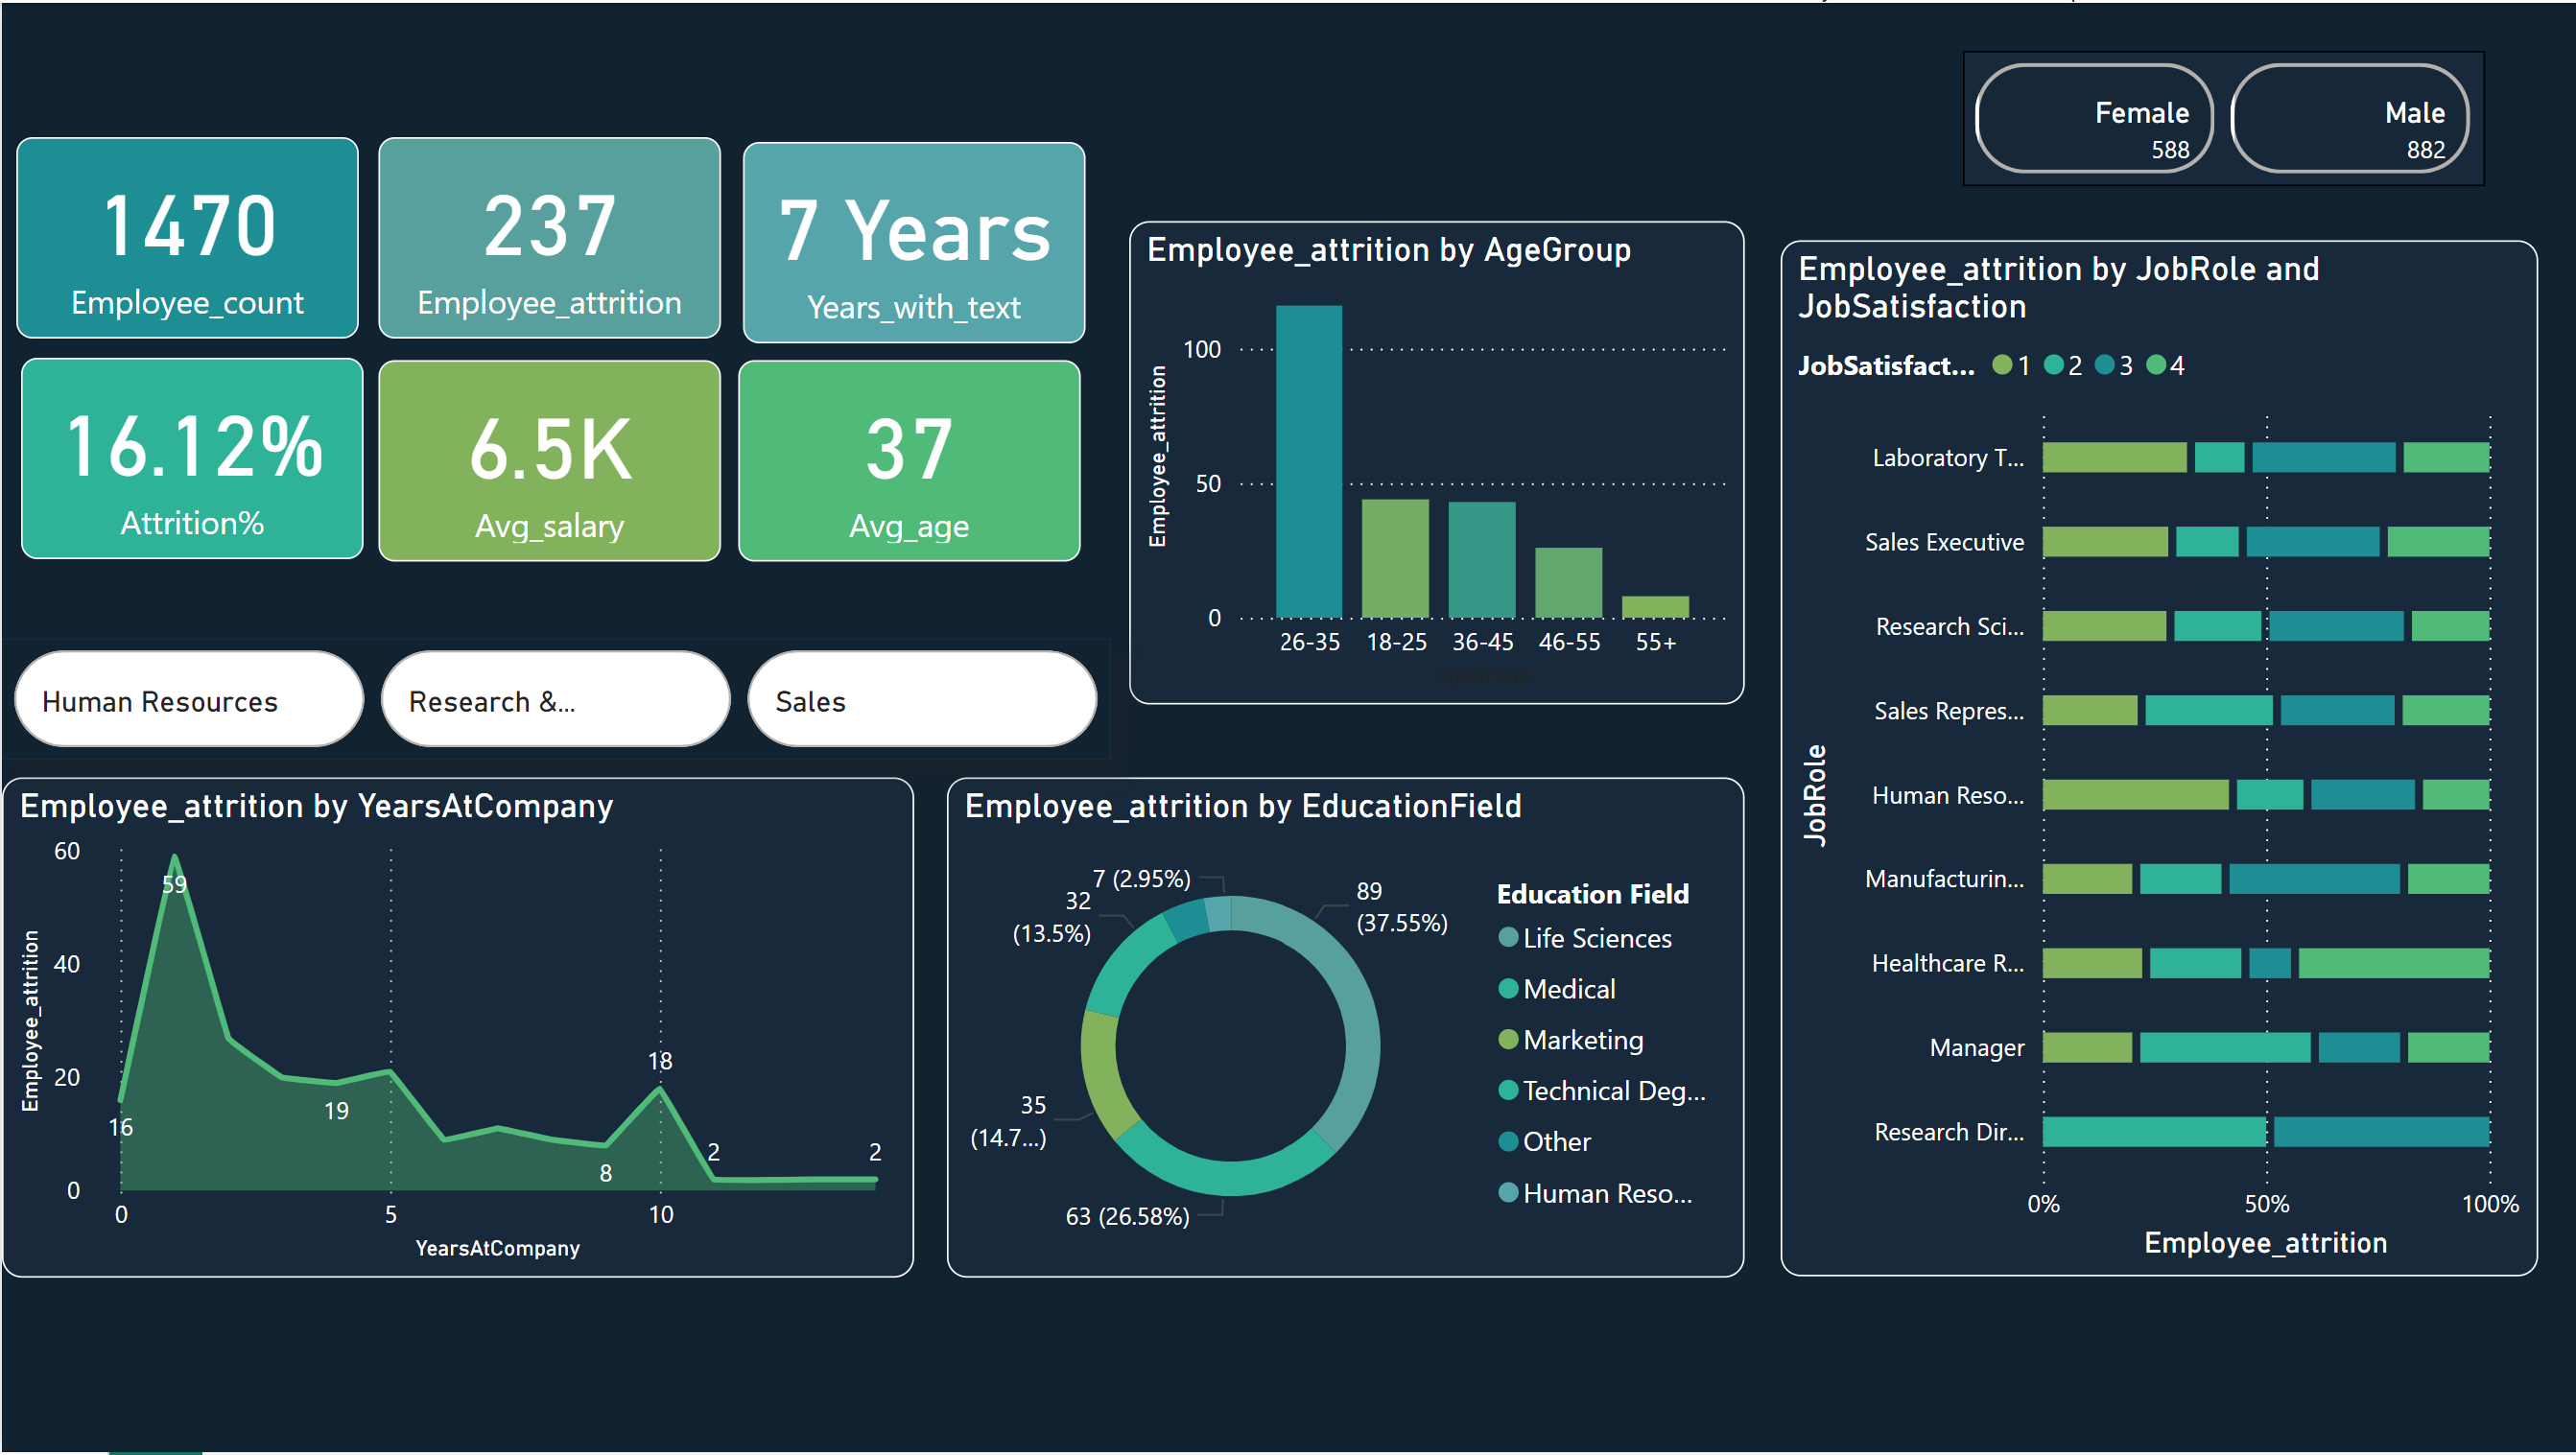

What the dashboard file says about the page in this screenshot:
{"tool":"powerbi","page":{"name":"Page 1","canvas":[1280,720],"ordinal":0},"visuals":[{"type":"card","fields":{"Values":["HR_Analytics.Employee_attrition"]},"box":[186.6,67.2,170.2,100.2],"z":0},{"type":"card","fields":{"Values":["HR_Analytics.Employee_count"]},"box":[6.9,67.2,170.2,100.2],"z":1000},{"type":"card","fields":{"Values":["HR_Analytics.Years_with_text"]},"box":[367.8,68.6,170.2,100.2],"z":2000},{"type":"card","fields":{"Values":["HR_Analytics.Attrition%"]},"box":[9.6,175.6,170.2,100.2],"z":3000},{"type":"card","fields":{"Values":["HR_Analytics.Avg_salary"]},"box":[186.6,177,170.2,100.2],"z":4000},{"type":"card","fields":{"Values":["HR_Analytics.Avg_age"]},"box":[365,177,170.2,100.2],"z":5000},{"type":"areaChart","fields":{"Y":["HR_Analytics.Employee_attrition"],"Category":["HR_Analytics.YearsAtCompany"]},"box":[0,384.2,452.8,248.4],"z":6000},{"type":"donutChart","fields":{"Y":["HR_Analytics.Employee_attrition"],"Category":["HR_Analytics.EducationField"]},"box":[469.3,384.2,396.6,248.4],"z":7000},{"type":"clusteredColumnChart","fields":{"Category":["HR_Analytics.AgeGroup"],"Y":["HR_Analytics.Employee_attrition"]},"box":[559.9,108.4,306,240.1],"z":8000},{"type":"hundredPercentStackedBarChart","fields":{"Y":["HR_Analytics.Employee_attrition"],"Series":["HR_Analytics.JobSatisfaction"],"Category":["HR_Analytics.JobRole"]},"box":[883.7,118,376,514.6],"z":9000},{"type":"advancedSlicerVisual","fields":{"Values":["HR_Analytics.Gender"]},"box":[974.3,23.3,259.3,67.2],"z":10000},{"type":"advancedSlicerVisual","fields":{"Values":["HR_Analytics.Department"]},"box":[0,315.6,550.3,60.4],"z":11000}]}

Visuals, with their boxes in screenshot pixels (x1, y1, x2, y2), scaled from the page's 1280x720 canvas onto the 2576x1455 screenshot:
card - HR_Analytics.Employee_attrition: Rect(375, 136, 718, 339)
card - HR_Analytics.Employee_count: Rect(13, 136, 356, 339)
card - HR_Analytics.Years_with_text: Rect(741, 139, 1083, 341)
card - HR_Analytics.Attrition%: Rect(19, 355, 362, 557)
card - HR_Analytics.Avg_salary: Rect(375, 358, 718, 560)
card - HR_Analytics.Avg_age: Rect(735, 358, 1077, 560)
areaChart - HR_Analytics.Employee_attrition x HR_Analytics.YearsAtCompany: Rect(0, 776, 911, 1279)
donutChart - HR_Analytics.Employee_attrition x HR_Analytics.EducationField: Rect(944, 776, 1742, 1279)
clusteredColumnChart - HR_Analytics.AgeGroup x HR_Analytics.Employee_attrition: Rect(1126, 219, 1742, 704)
hundredPercentStackedBarChart - HR_Analytics.Employee_attrition x HR_Analytics.JobSatisfaction: Rect(1779, 239, 2535, 1279)
advancedSlicerVisual - HR_Analytics.Gender: Rect(1961, 47, 2483, 183)
advancedSlicerVisual - HR_Analytics.Department: Rect(0, 638, 1107, 760)
